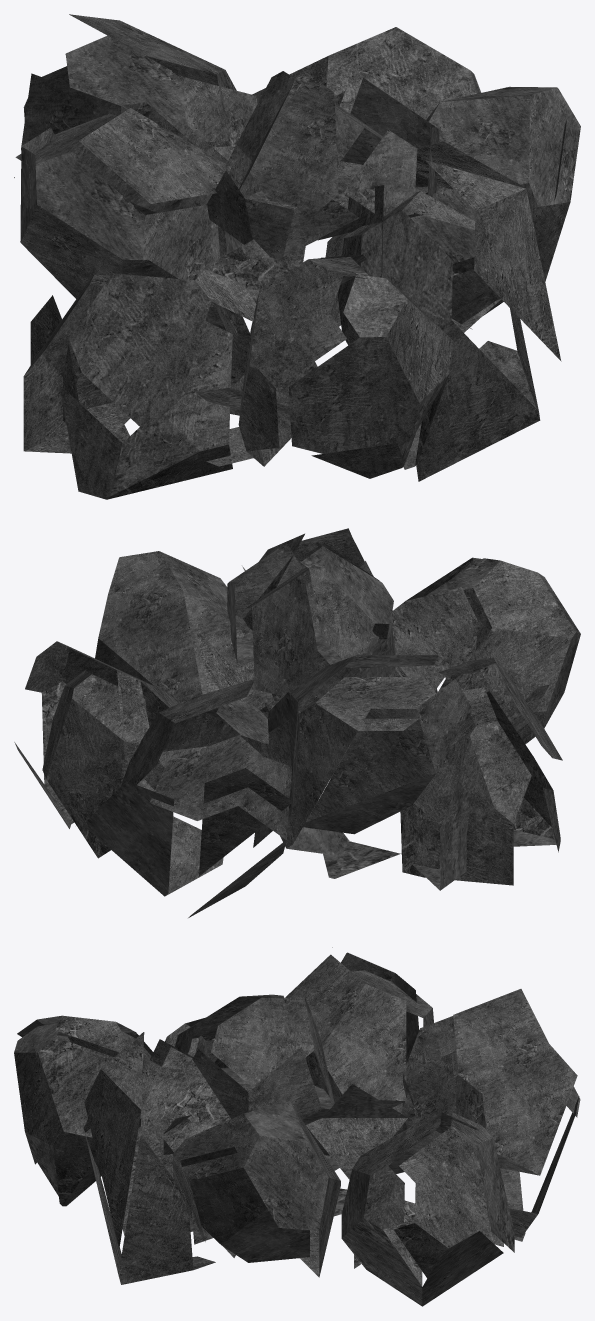
File: Stone12.obj
3 renders of one model, top to bottom at view 1: azimuth 30°, elevation 25°; view 2: azimuth 150°, elevation 25°; view 3: azimuth 270°, elevation 25°, orthographic. The views are drawn at different scales.
Visible parts, largest first — view 1: Object015; view 2: Object015; view 3: Object015.
Boxes of the visible parts, x1,y1,x2,y2 form: Object015: (14, 14, 580, 499); Object015: (14, 528, 580, 917); Object015: (14, 947, 580, 1306).
Bounding box in the file's own units: 214 × 130 × 252.
Materials: 1 (1 with a texture image).
